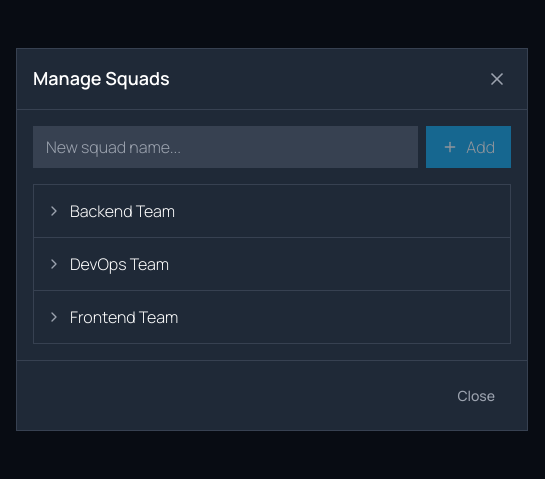
Test case: ManageSquadsModal › error handling › shows error message when add squad fails
Type "QA Team" into the field with placeholder "New squad name..." at (226,146), box [33, 126, 418, 168]
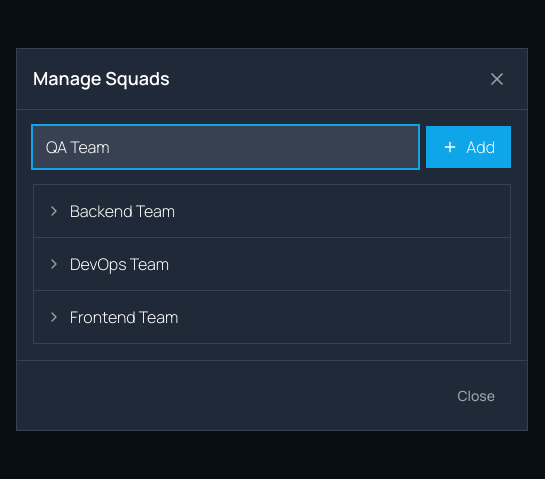
Click the button "Add" at (469,146), box [426, 126, 511, 168]
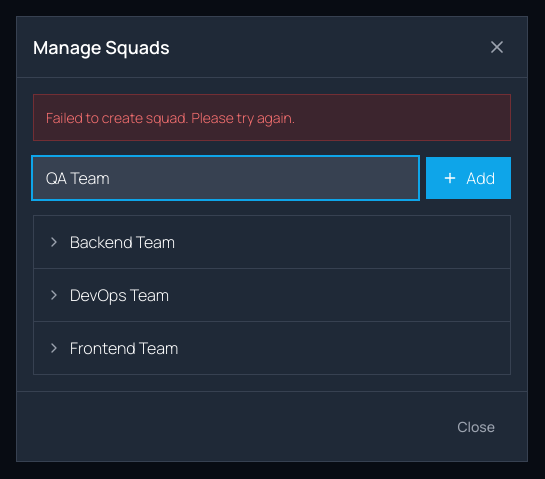
Expected: the text "Failed to create squad. Please try again." is shown, [33, 94, 511, 141]
